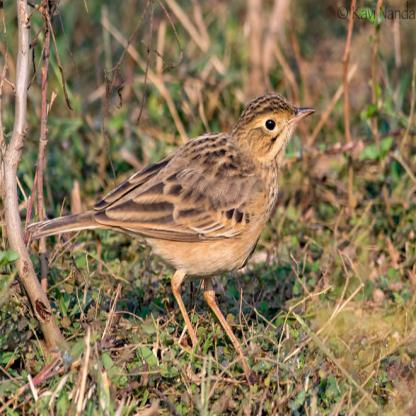Burung: (24, 96, 315, 358)
